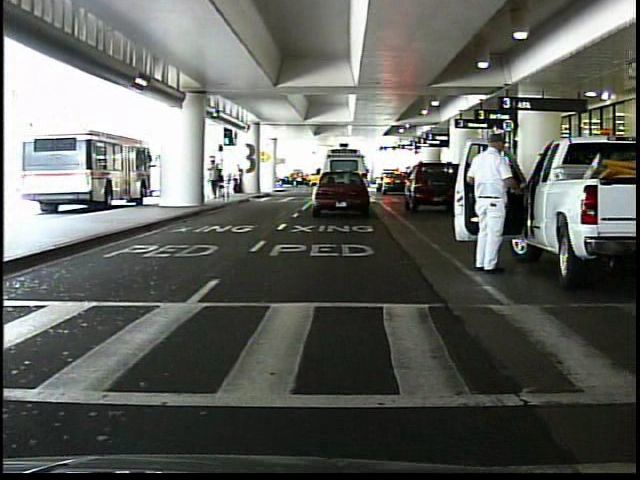person: (467, 129, 521, 274), (209, 155, 224, 202), (231, 163, 248, 198)
